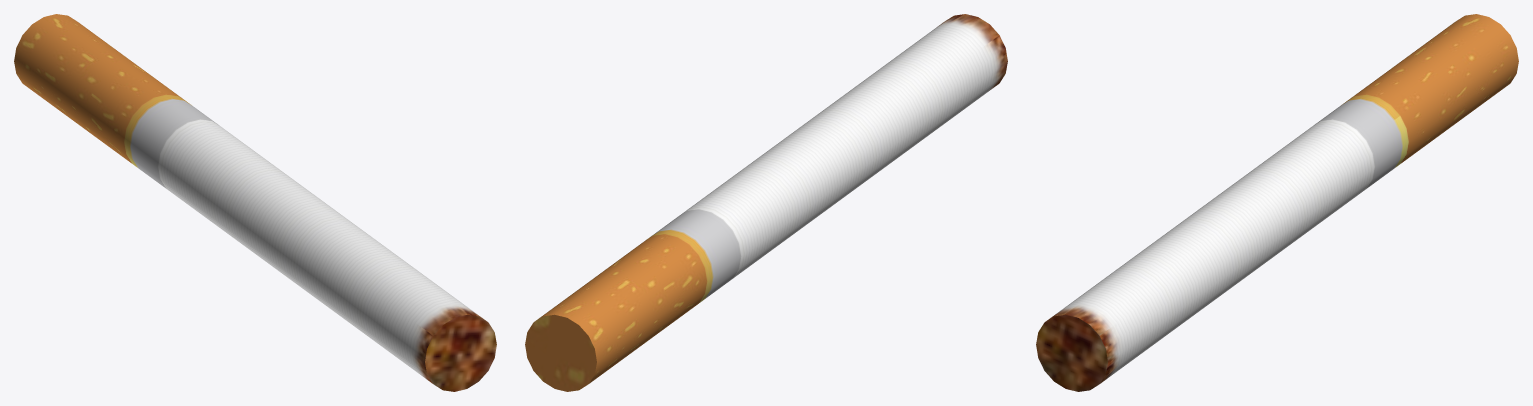
The model's file is cigareta.FBX.
3 views of the same model, side by side, from view 1: azimuth 30°, elevation 25°; view 2: azimuth 150°, elevation 25°; view 3: azimuth 330°, elevation 25° (orthographic).
Visible parts, largest first — view 1: Cylinder001; view 2: Cylinder001; view 3: Cylinder001.
Part boxes in pixels (<box>): Cylinder001: <box>14,14,496,391</box>; Cylinder001: <box>525,14,1007,391</box>; Cylinder001: <box>1036,14,1518,391</box>.
Size of the model in its own units: 1.95 by 1.92 by 19.31.
